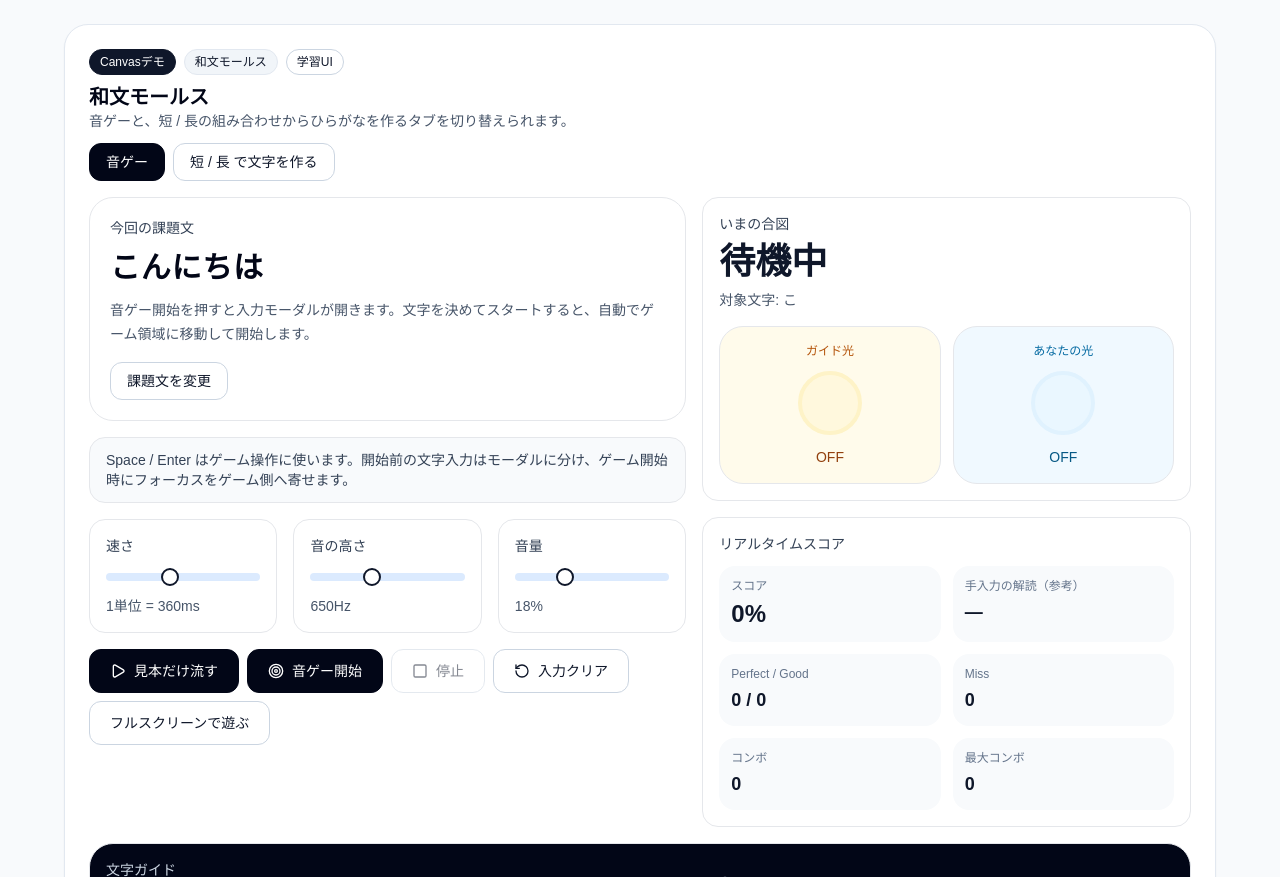
keyboard play controls › starts the game from the modal and scrolls to the game lane
Click the button "音ゲー開始" at (315, 671), box [247,649,383,693]
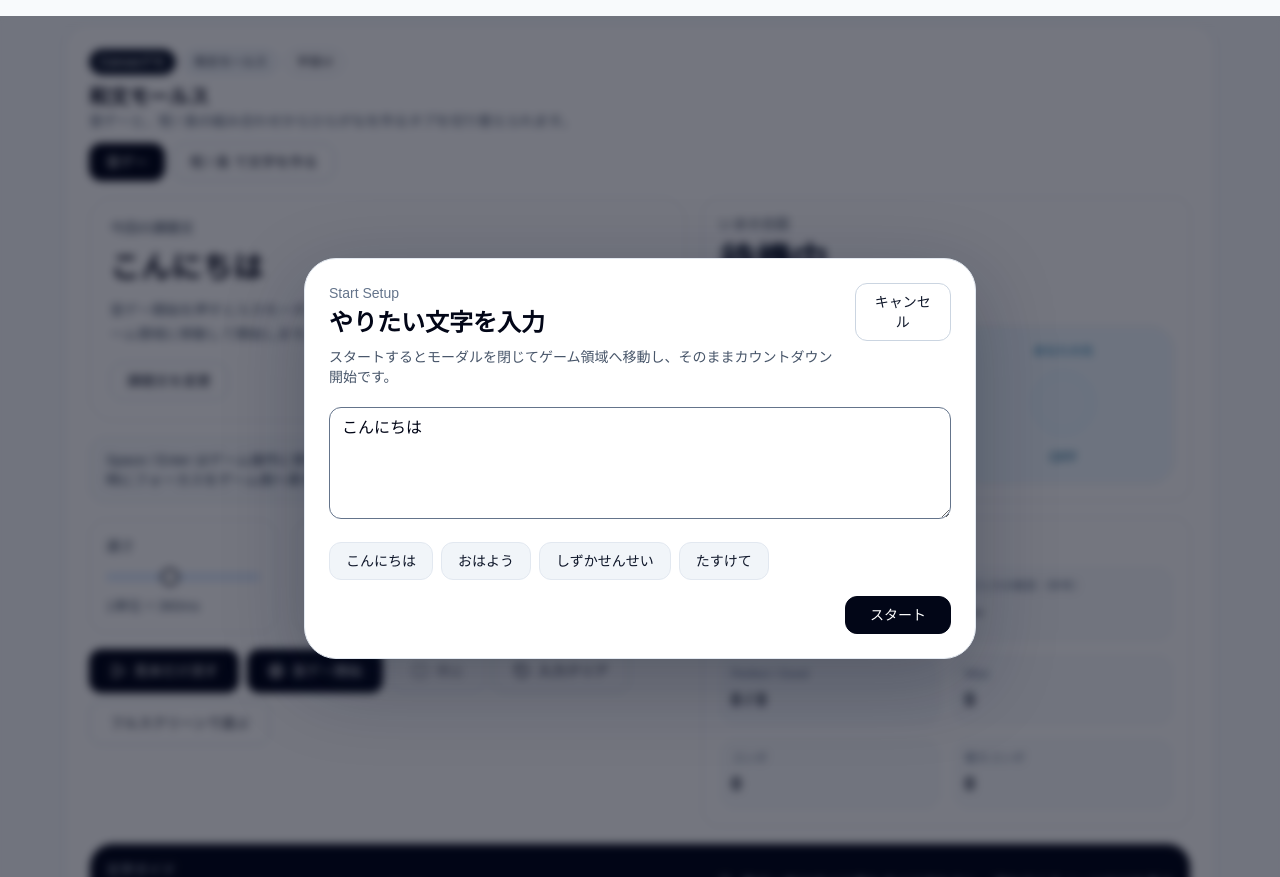
Replace the text in the text box with "おはよう" at (640, 462), box [329,406,951,518]
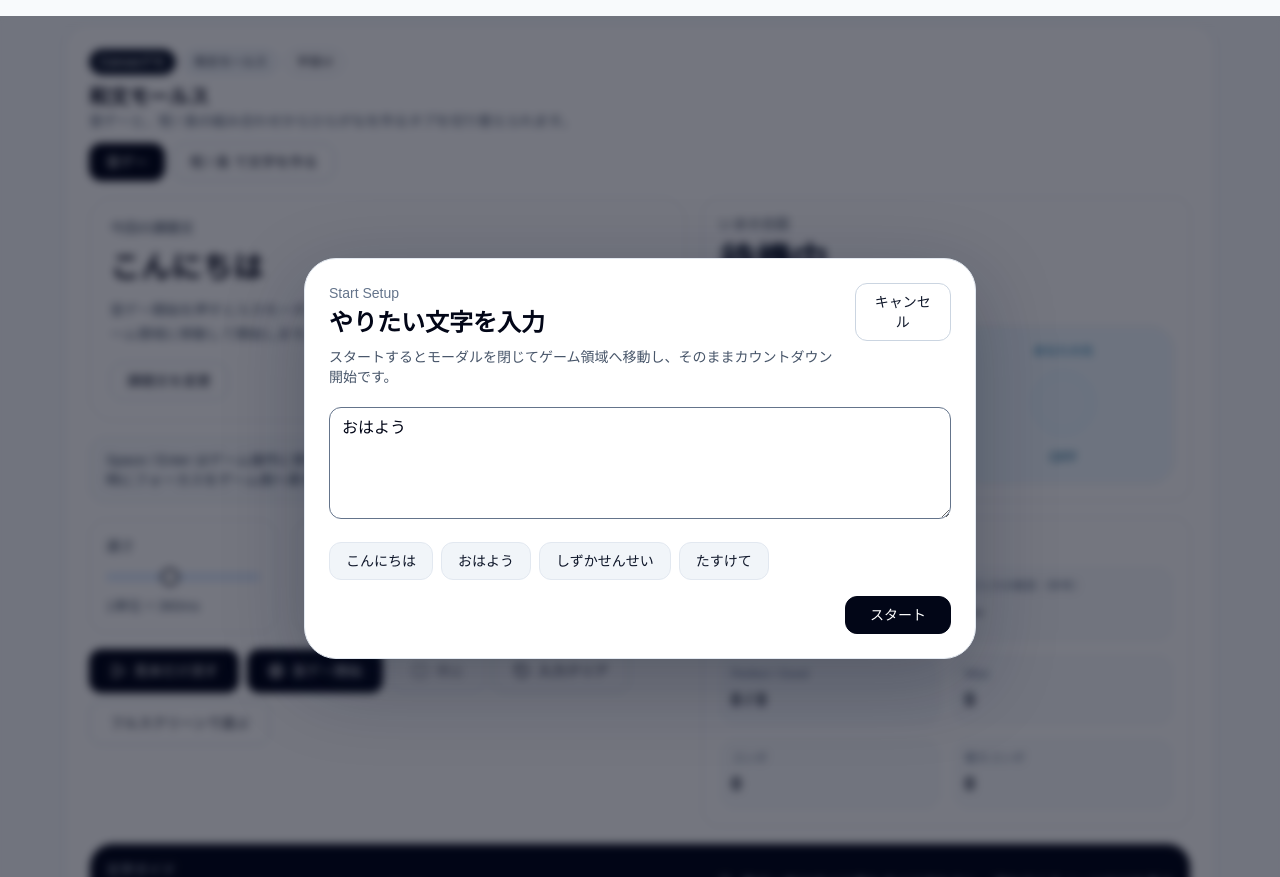
Click the button "スタート" at (898, 614), box [845,596,951,634]
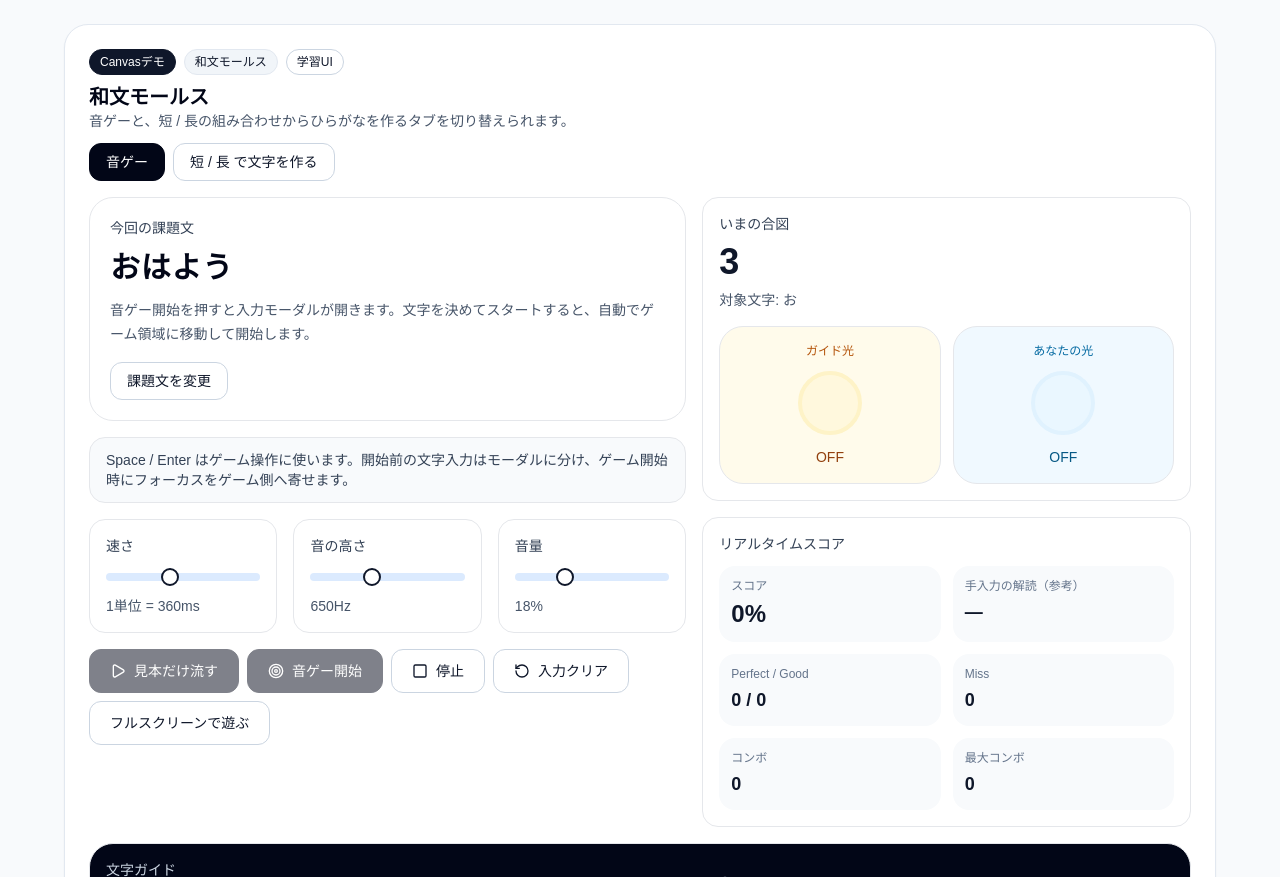
Result: the dialog "開始する文字を入力" is gone
Result: the text "3" is shown at [719,241,739,282]
